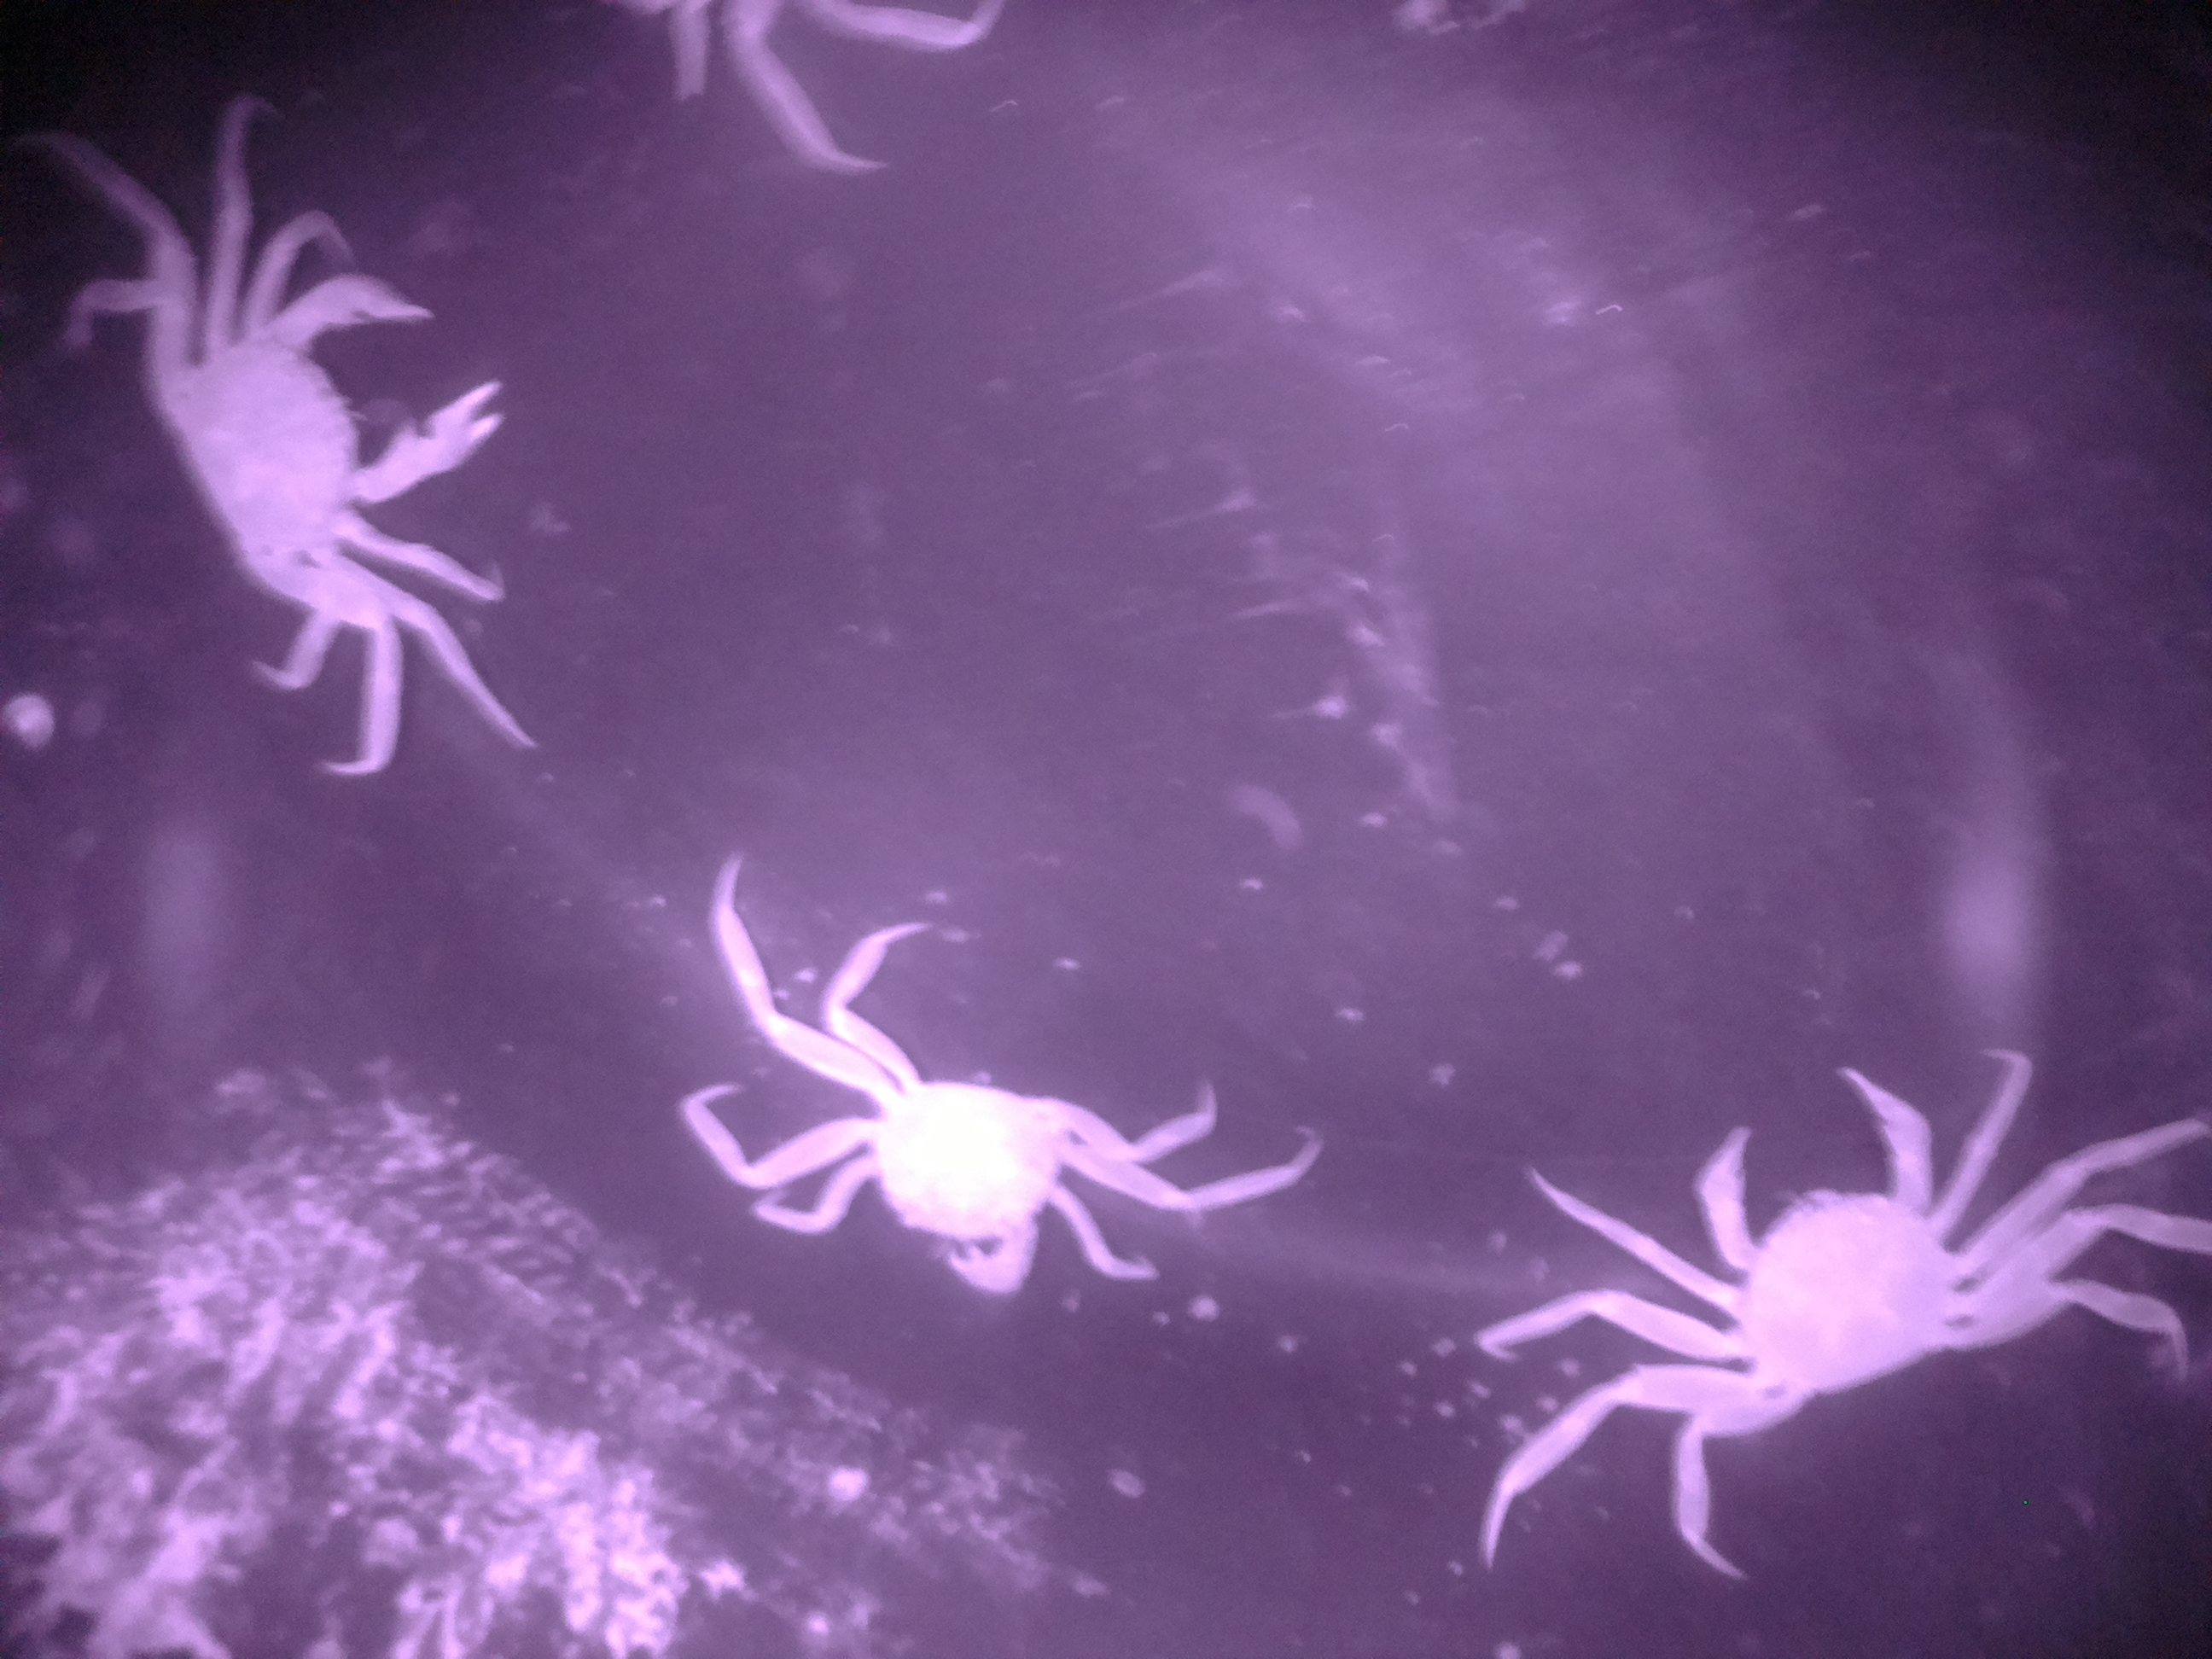Crab: (84, 237, 547, 640), (1632, 1037, 2038, 1462), (786, 958, 1111, 1317)
